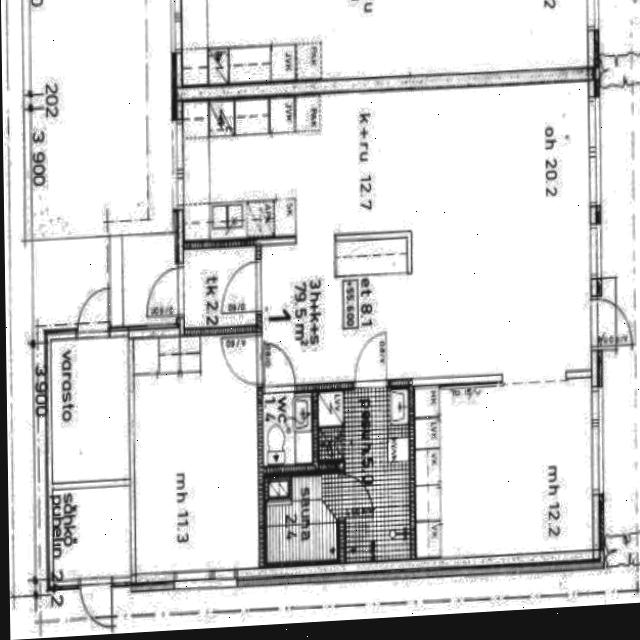room: (408, 378, 598, 558), (131, 333, 258, 574), (317, 388, 409, 563), (50, 338, 129, 483), (262, 469, 339, 566), (52, 487, 130, 580), (183, 247, 255, 328), (261, 394, 311, 466)
